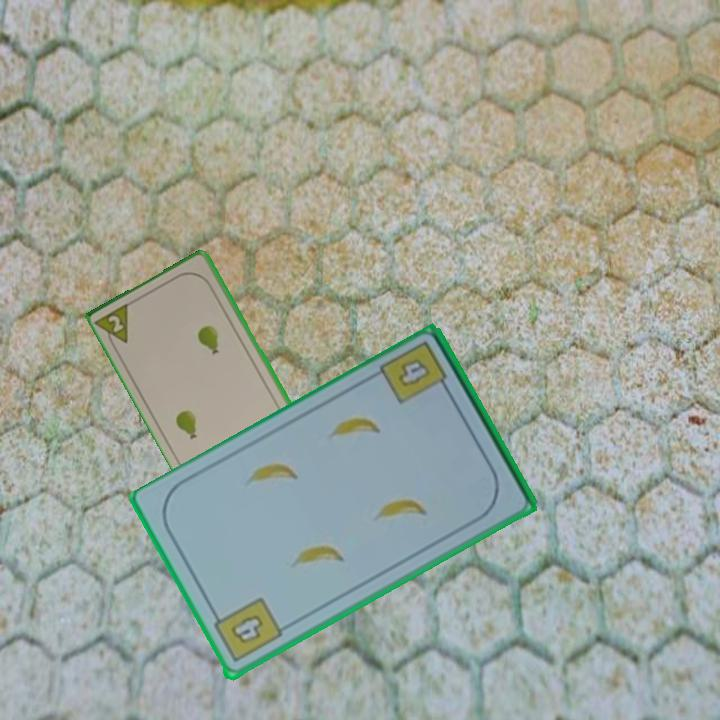2p: (93, 299, 134, 353)
4b: (208, 594, 285, 667), (376, 337, 455, 408)
